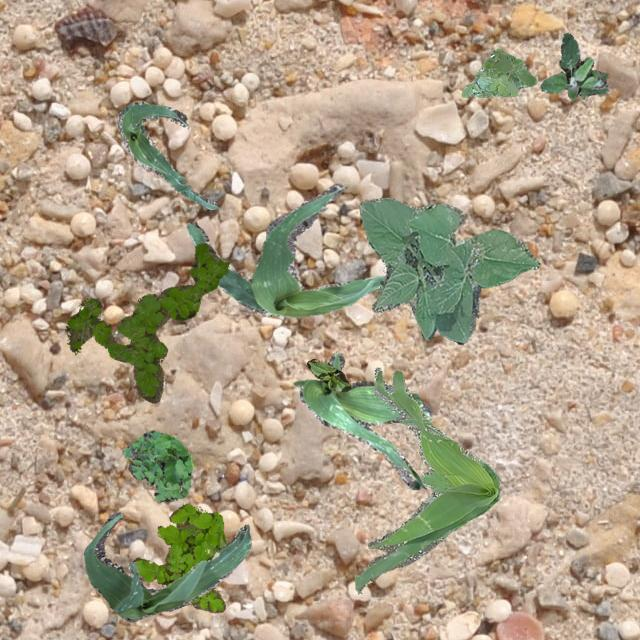crop: (185, 182, 383, 318), (358, 196, 538, 344), (292, 351, 430, 488), (82, 512, 250, 620), (116, 100, 217, 208), (306, 358, 350, 392)
weed: (353, 366, 498, 592), (66, 242, 230, 402), (133, 502, 225, 612), (121, 430, 192, 500), (540, 32, 608, 100), (460, 48, 536, 96)
